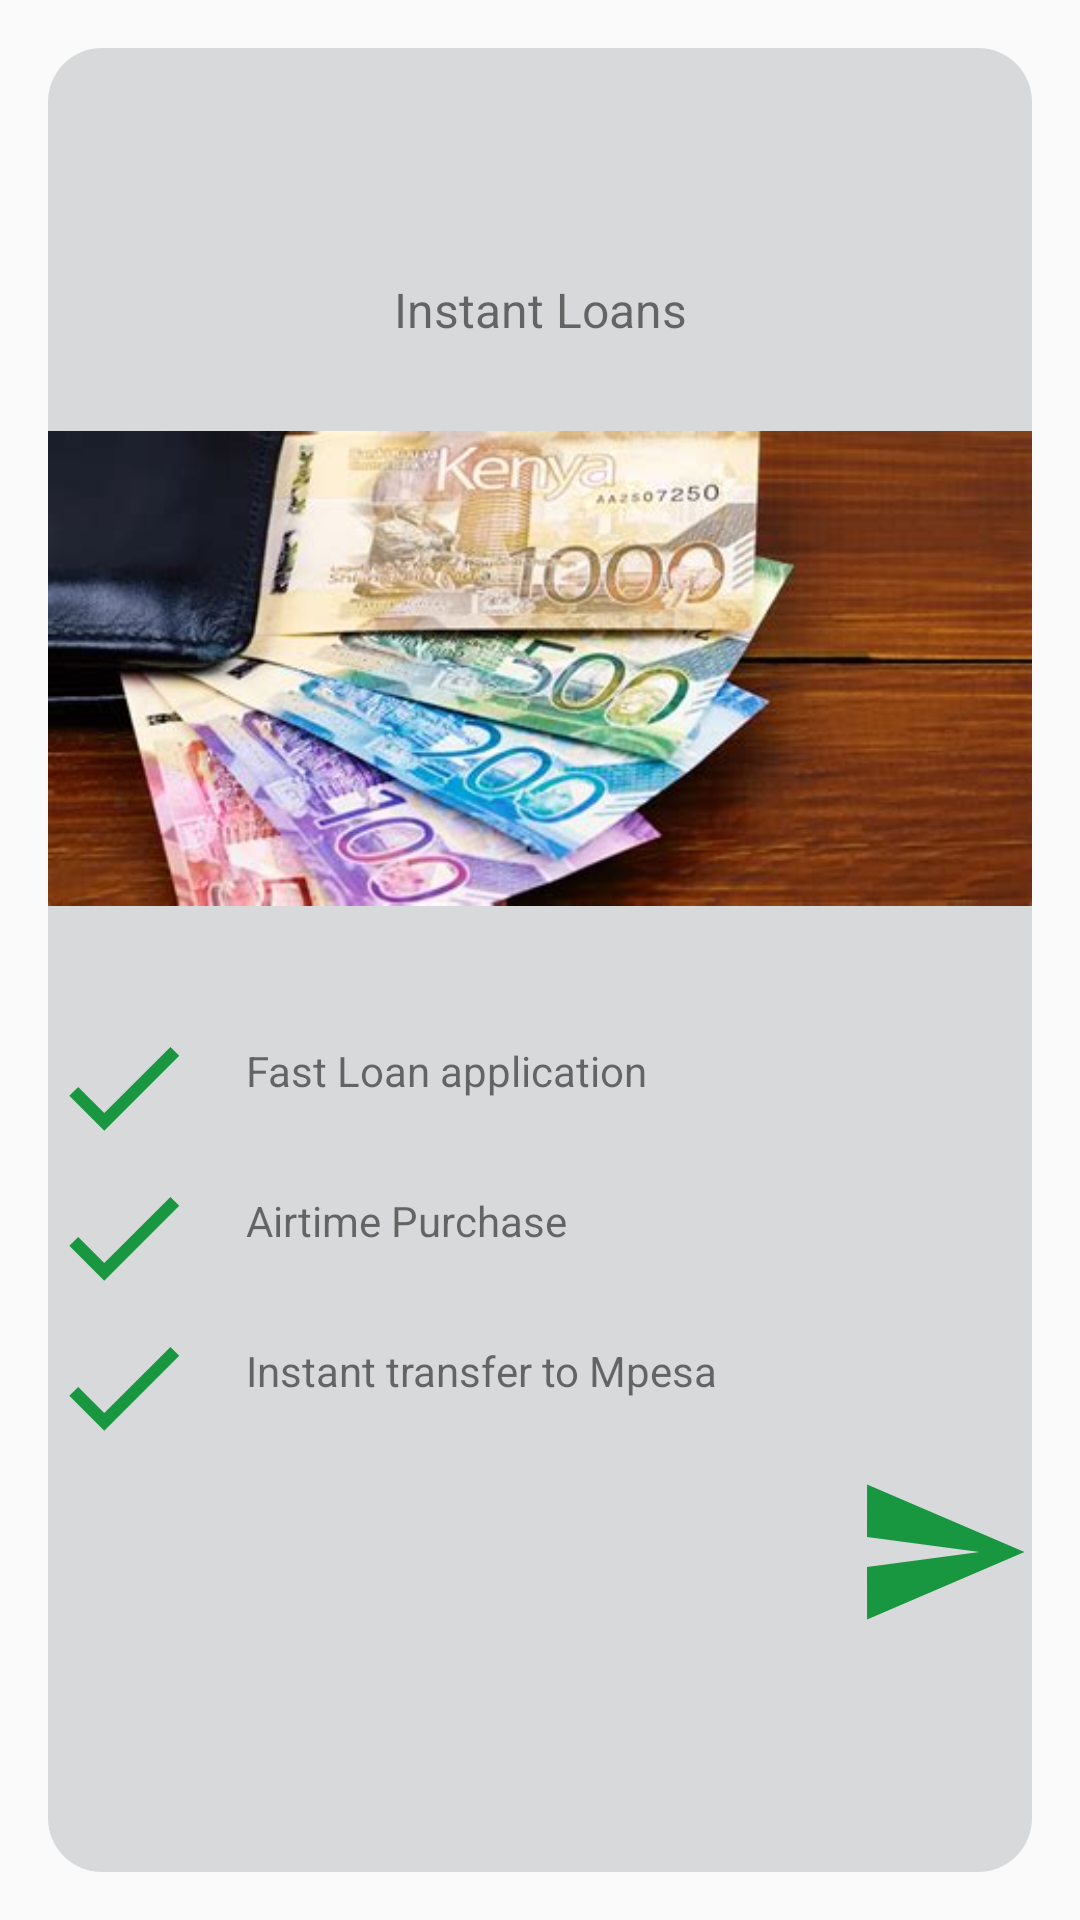

Icon bounding boxes for this 1080px×1920px phone screenshot, format (x1, y1, x2, y2):
check: (69, 1047, 179, 1131), (69, 1197, 179, 1281), (69, 1347, 179, 1431)
send: (867, 1484, 1024, 1620)
